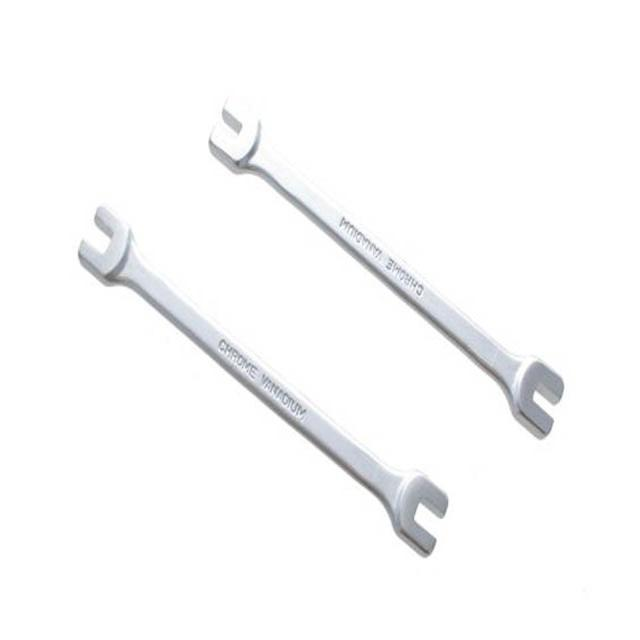wrench: (74, 203, 452, 562), (207, 94, 566, 442)
